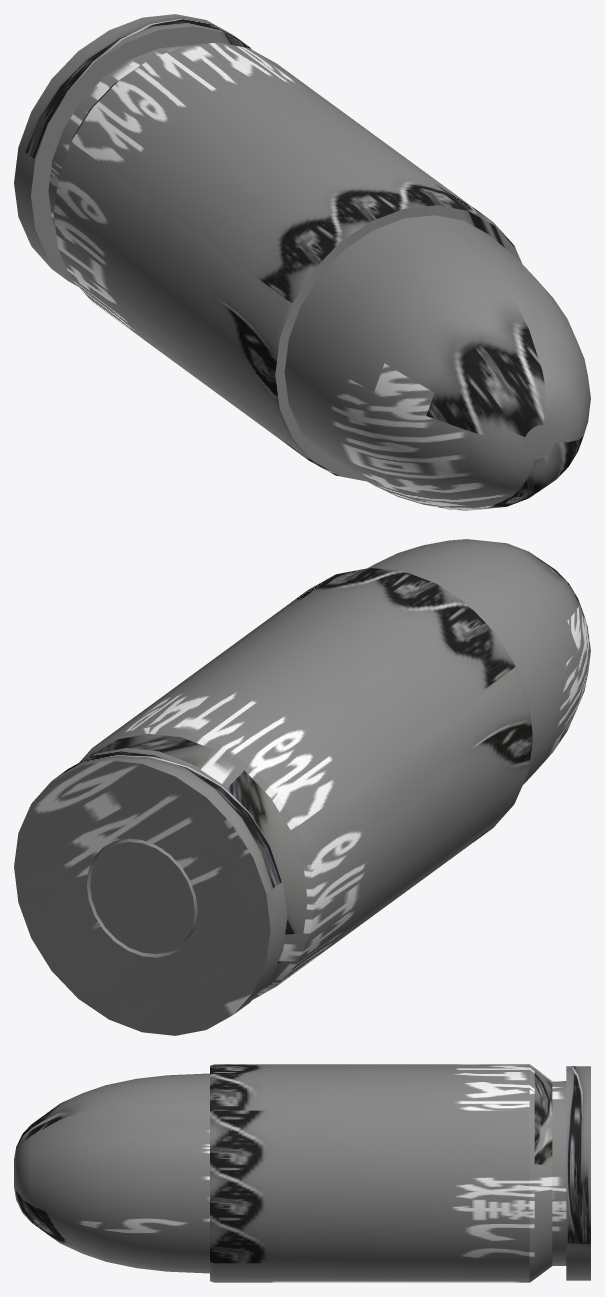
Rendered from Bullet.obj.
3 renders of one model, top to bottom at view 1: azimuth 30°, elevation 25°; view 2: azimuth 150°, elevation 25°; view 3: azimuth 270°, elevation 25°, orthographic. The views are drawn at different scales.
Parts seen in each view (by area): view 1: 9mm_Cylinder; view 2: 9mm_Cylinder; view 3: 9mm_Cylinder.
Part boxes in pixels (left/top/right/bottom): 9mm_Cylinder: left=14, top=14, right=590, bottom=510; 9mm_Cylinder: left=14, top=539, right=590, bottom=1035; 9mm_Cylinder: left=14, top=1064, right=590, bottom=1282.
Bounding box in the file's own units: 0.4183 × 0.4183 × 1.1.
